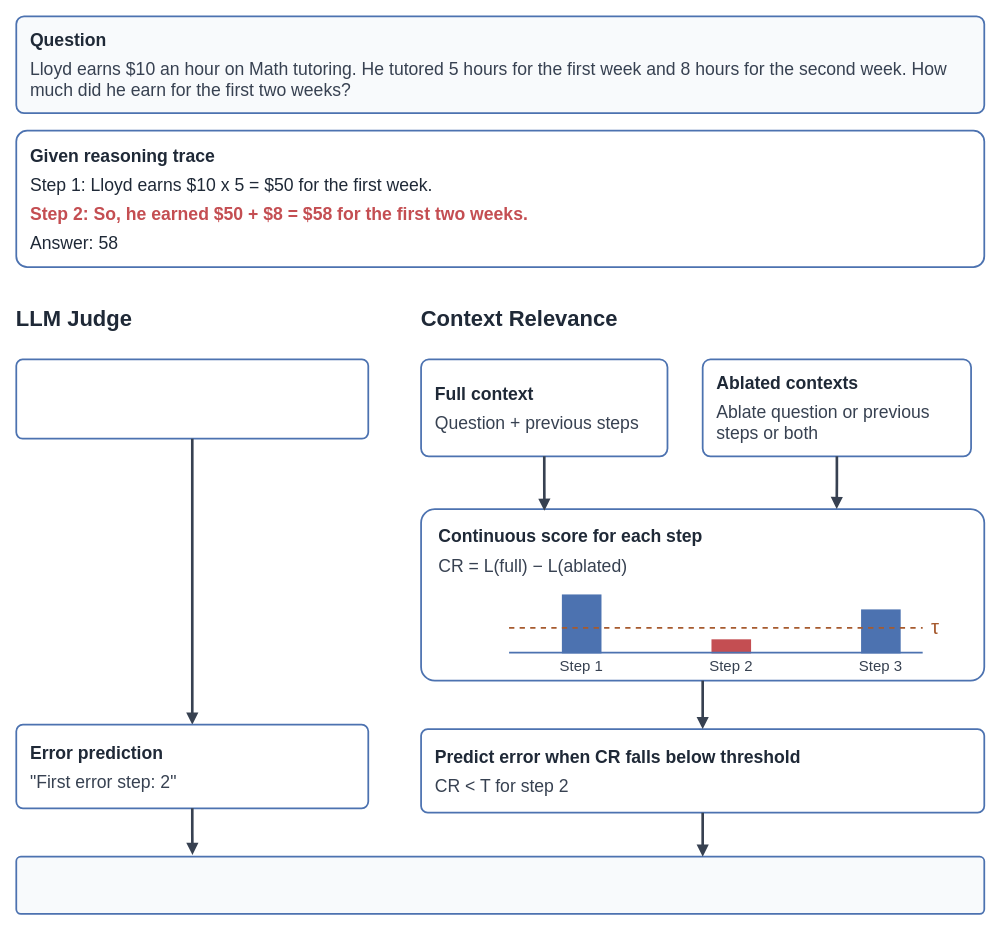
This 1000x929 diagram has some shape labels left out. Each missing label, with the centre of its shape:
Compare predictions with reference first-error labels: point 500,884
Full context with judge instruction "Find the error in this solution": point 192,398
